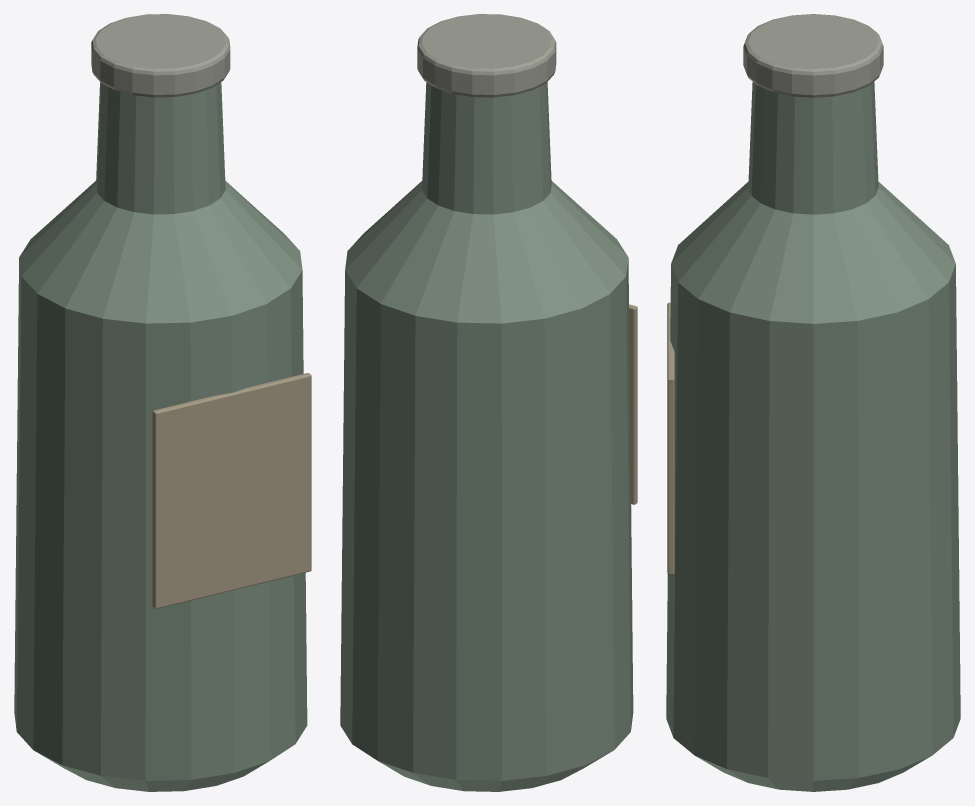
File: bottle.glb
3 renders of one model, left to right at view 1: azimuth 30°, elevation 25°; view 2: azimuth 150°, elevation 25°; view 3: azimuth 270°, elevation 25°, orthographic.
Visible parts, largest first — view 1: bottle; view 2: bottle; view 3: bottle.
Part boxes in pixels (x1,y1,x2,y2): bottle: (14,14,311,791); bottle: (340,14,637,791); bottle: (666,14,960,791).
Bounding box in the file's own units: 0.122 × 0.3215 × 0.122.
